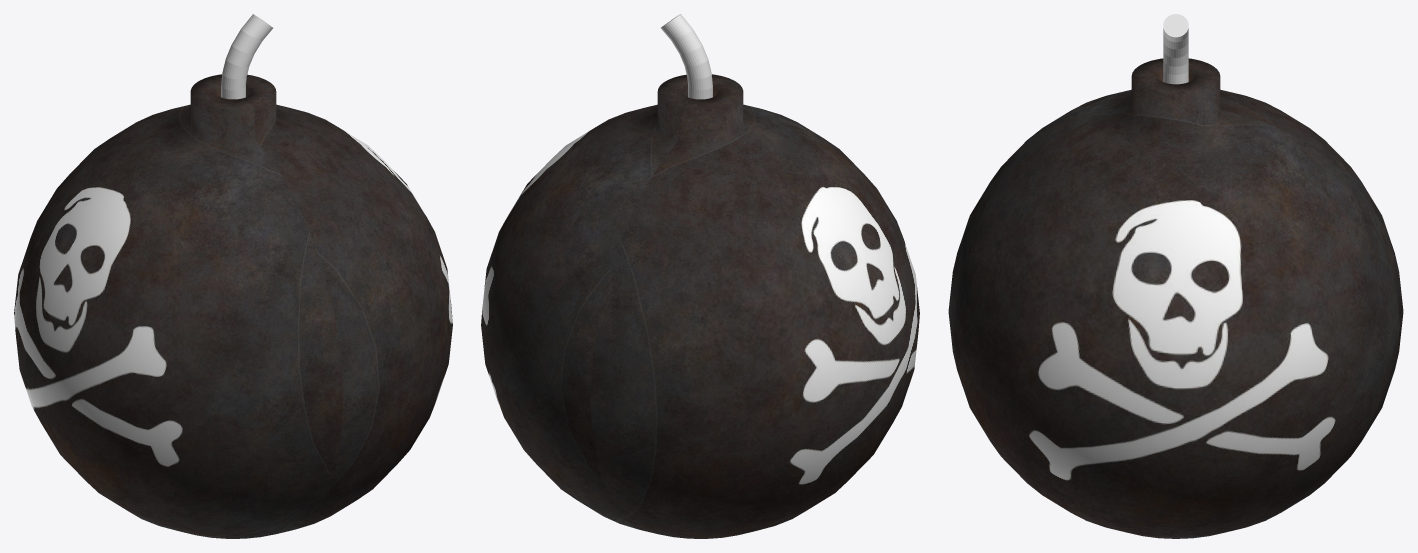
Rendered from PirateBomb.fbx.
The picture shows the model from 3 angles, left to right: view 1: azimuth 30°, elevation 25°; view 2: azimuth 150°, elevation 25°; view 3: azimuth 270°, elevation 25°; orthographic projection. The views are drawn at different scales.
Parts seen in each view (by area): view 1: Sphere; view 2: Sphere; view 3: Sphere.
Part boxes in pixels (left/top/right/bottom): Sphere: left=14, top=14, right=452, bottom=538; Sphere: left=481, top=14, right=919, bottom=538; Sphere: left=948, top=14, right=1403, bottom=538.
Size of the model in its own units: 200 by 250 by 200.
2 materials, 1 textured.
